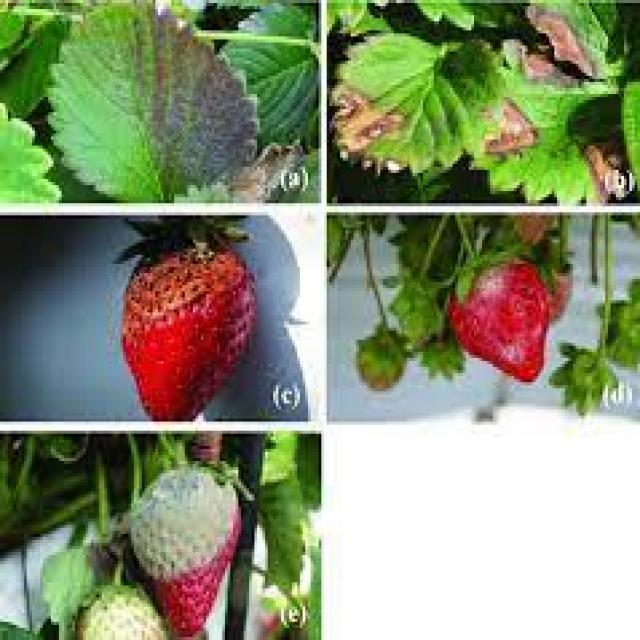Moho gris: (104, 466, 260, 632), (450, 254, 568, 384)
Podredumbre de cuero: (94, 241, 270, 417)
